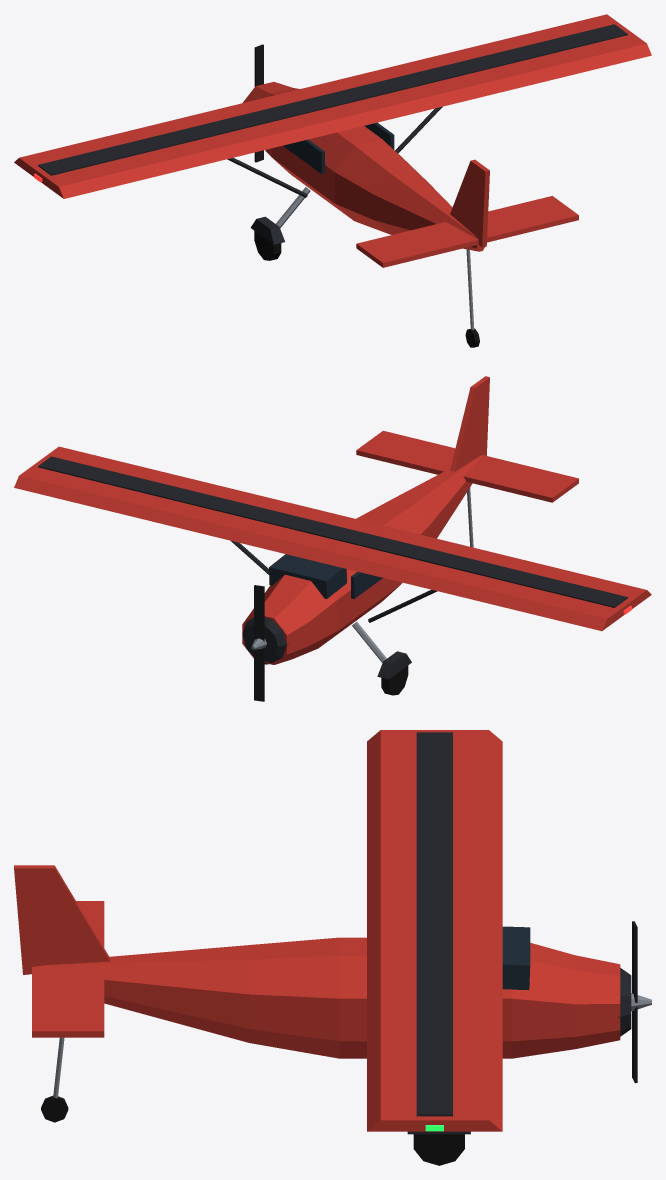
3 views of the same model, one above another, from view 1: azimuth 30°, elevation 25°; view 2: azimuth 150°, elevation 25°; view 3: azimuth 270°, elevation 25° (orthographic). The views are drawn at different scales.
Visible parts, largest first — view 1: plane_Body, plane_Prop; view 2: plane_Body, plane_Prop; view 3: plane_Body, plane_Prop.
Part boxes in pixels (box(x1,y1,x2,y2)): plane_Body: box(14, 14, 651, 347); plane_Prop: box(254, 44, 263, 162); plane_Body: box(14, 376, 651, 695); plane_Prop: box(251, 585, 266, 701); plane_Body: box(14, 730, 631, 1165); plane_Prop: box(631, 921, 651, 1083).
Bounding box in the file's own units: 10.26 × 3.1 × 7.05.
